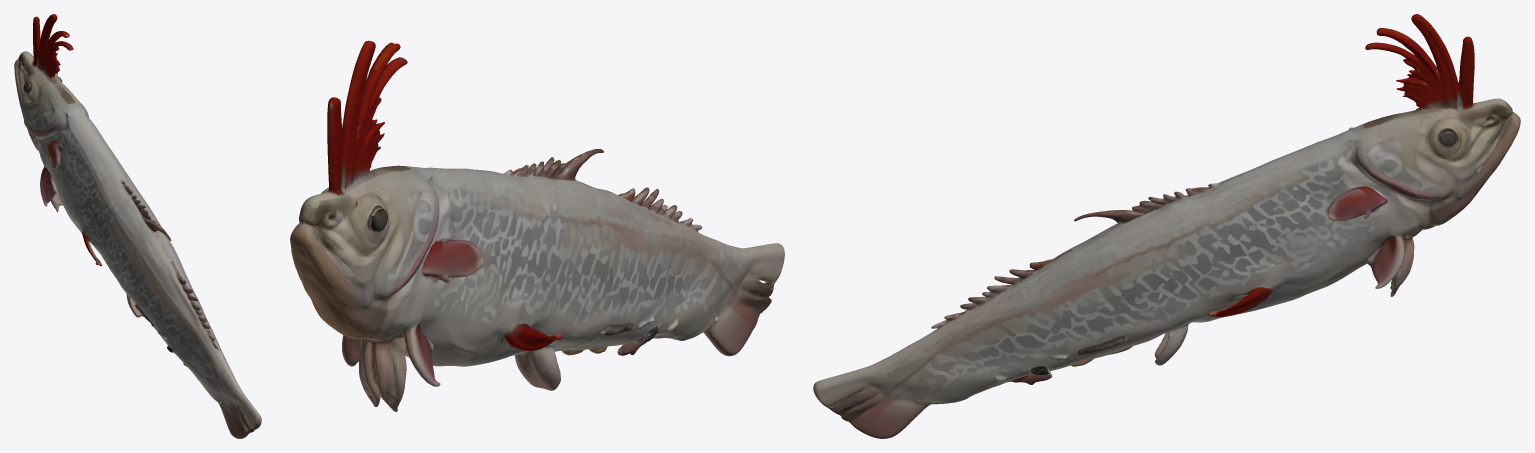
Rendered from oarX_3.glb.
3 views of the same model, side by side, from view 1: azimuth 30°, elevation 25°; view 2: azimuth 150°, elevation 25°; view 3: azimuth 270°, elevation 25° (orthographic). The views are drawn at different scales.
Parts seen in each view (by area): view 1: tripo_node_1d7c07fa-a362-495a-9bda-e12358bfe052; view 2: tripo_node_1d7c07fa-a362-495a-9bda-e12358bfe052; view 3: tripo_node_1d7c07fa-a362-495a-9bda-e12358bfe052.
Part boxes in pixels (x1=…): tripo_node_1d7c07fa-a362-495a-9bda-e12358bfe052: x1=14, y1=14, x2=261, y2=438; tripo_node_1d7c07fa-a362-495a-9bda-e12358bfe052: x1=290, y1=40, x2=784, y2=411; tripo_node_1d7c07fa-a362-495a-9bda-e12358bfe052: x1=813, y1=14, x2=1520, y2=438.
Size of the model in its own units: 0.1329 by 0.6613 by 1.
1 material, 1 textured.
